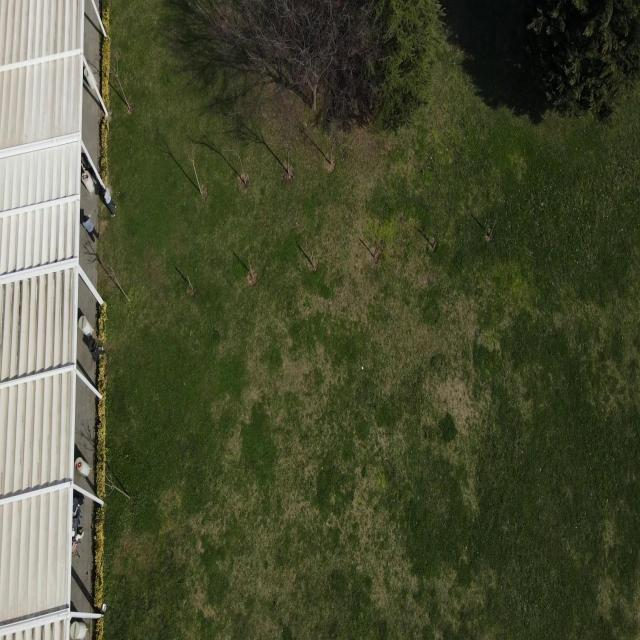p3rson: (82, 213, 100, 244), (101, 187, 117, 217), (81, 152, 97, 177), (72, 497, 82, 526), (71, 530, 84, 552)
